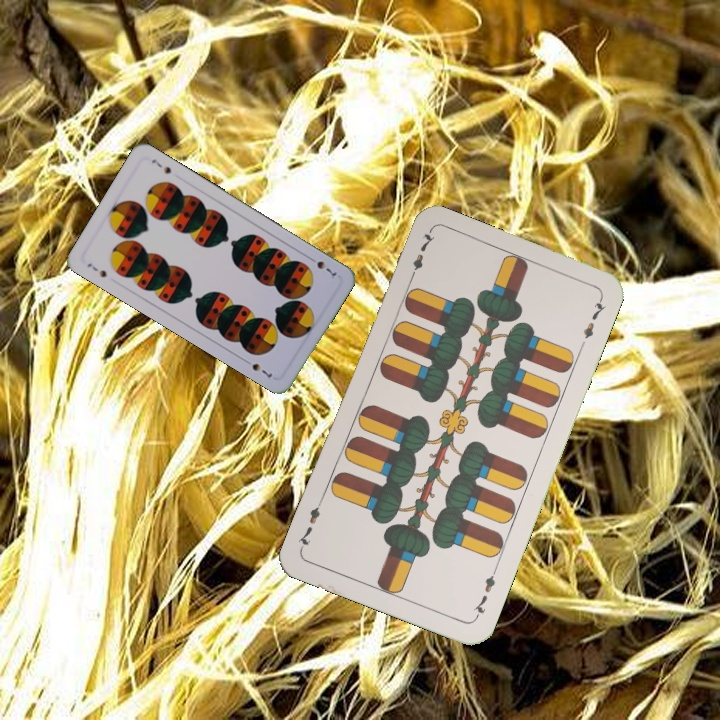E7: (405, 228, 438, 284), (470, 565, 500, 622)
S7: (304, 252, 341, 280), (83, 259, 110, 280)
